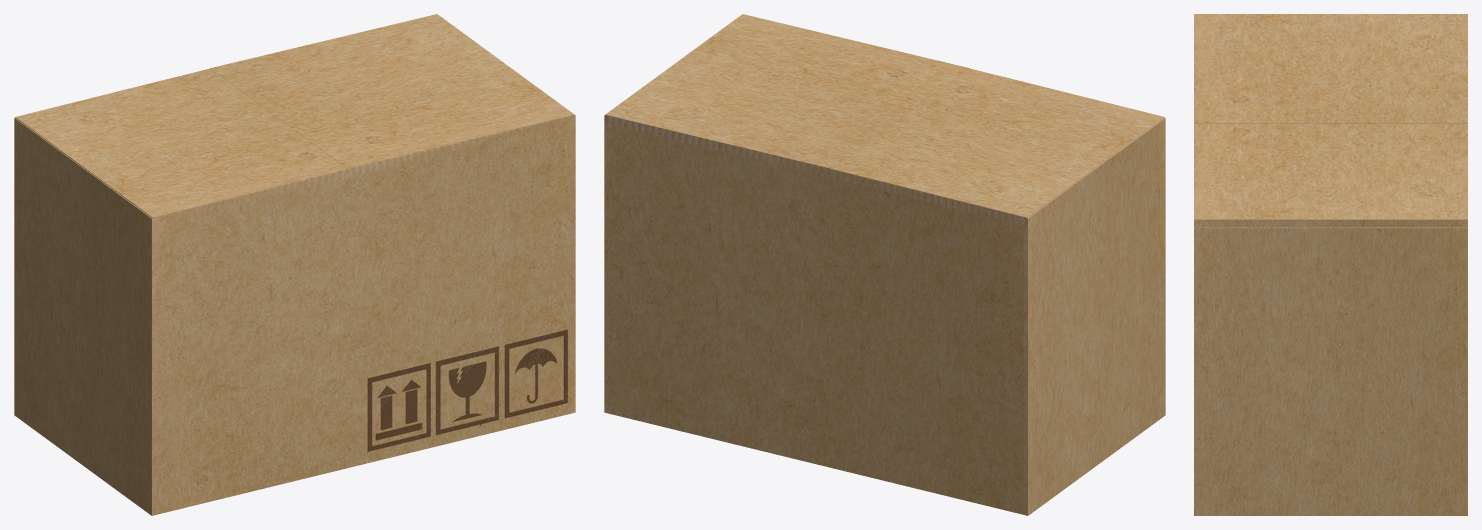
Rendered from LittleMediumNew.fbx.
The picture shows the model from 3 angles, left to right: view 1: azimuth 30°, elevation 25°; view 2: azimuth 150°, elevation 25°; view 3: azimuth 270°, elevation 25°; orthographic projection.
Visible parts, largest first — view 1: Little_Medium_Open_Box, Little_Medium_Open_Box.001, Little_Medium_Open_Box.002; view 2: Little_Medium_Open_Box, Little_Medium_Open_Box.001, Little_Medium_Open_Box.002; view 3: Little_Medium_Open_Box, Little_Medium_Open_Box.001, Little_Medium_Open_Box.002.
Boxes of the visible parts, x1,y1,x2,y2 form: Little_Medium_Open_Box: (14,115,575,515); Little_Medium_Open_Box.001: (210,14,574,177); Little_Medium_Open_Box.002: (15,60,379,224); Little_Medium_Open_Box: (604,115,1165,515); Little_Medium_Open_Box.001: (604,14,969,176); Little_Medium_Open_Box.002: (800,60,1164,226); Little_Medium_Open_Box: (1194,219,1467,515); Little_Medium_Open_Box.001: (1194,107,1467,228); Little_Medium_Open_Box.002: (1194,14,1467,123).
Bounding box in the file's own units: 1.14 × 0.7725 × 0.6437.
